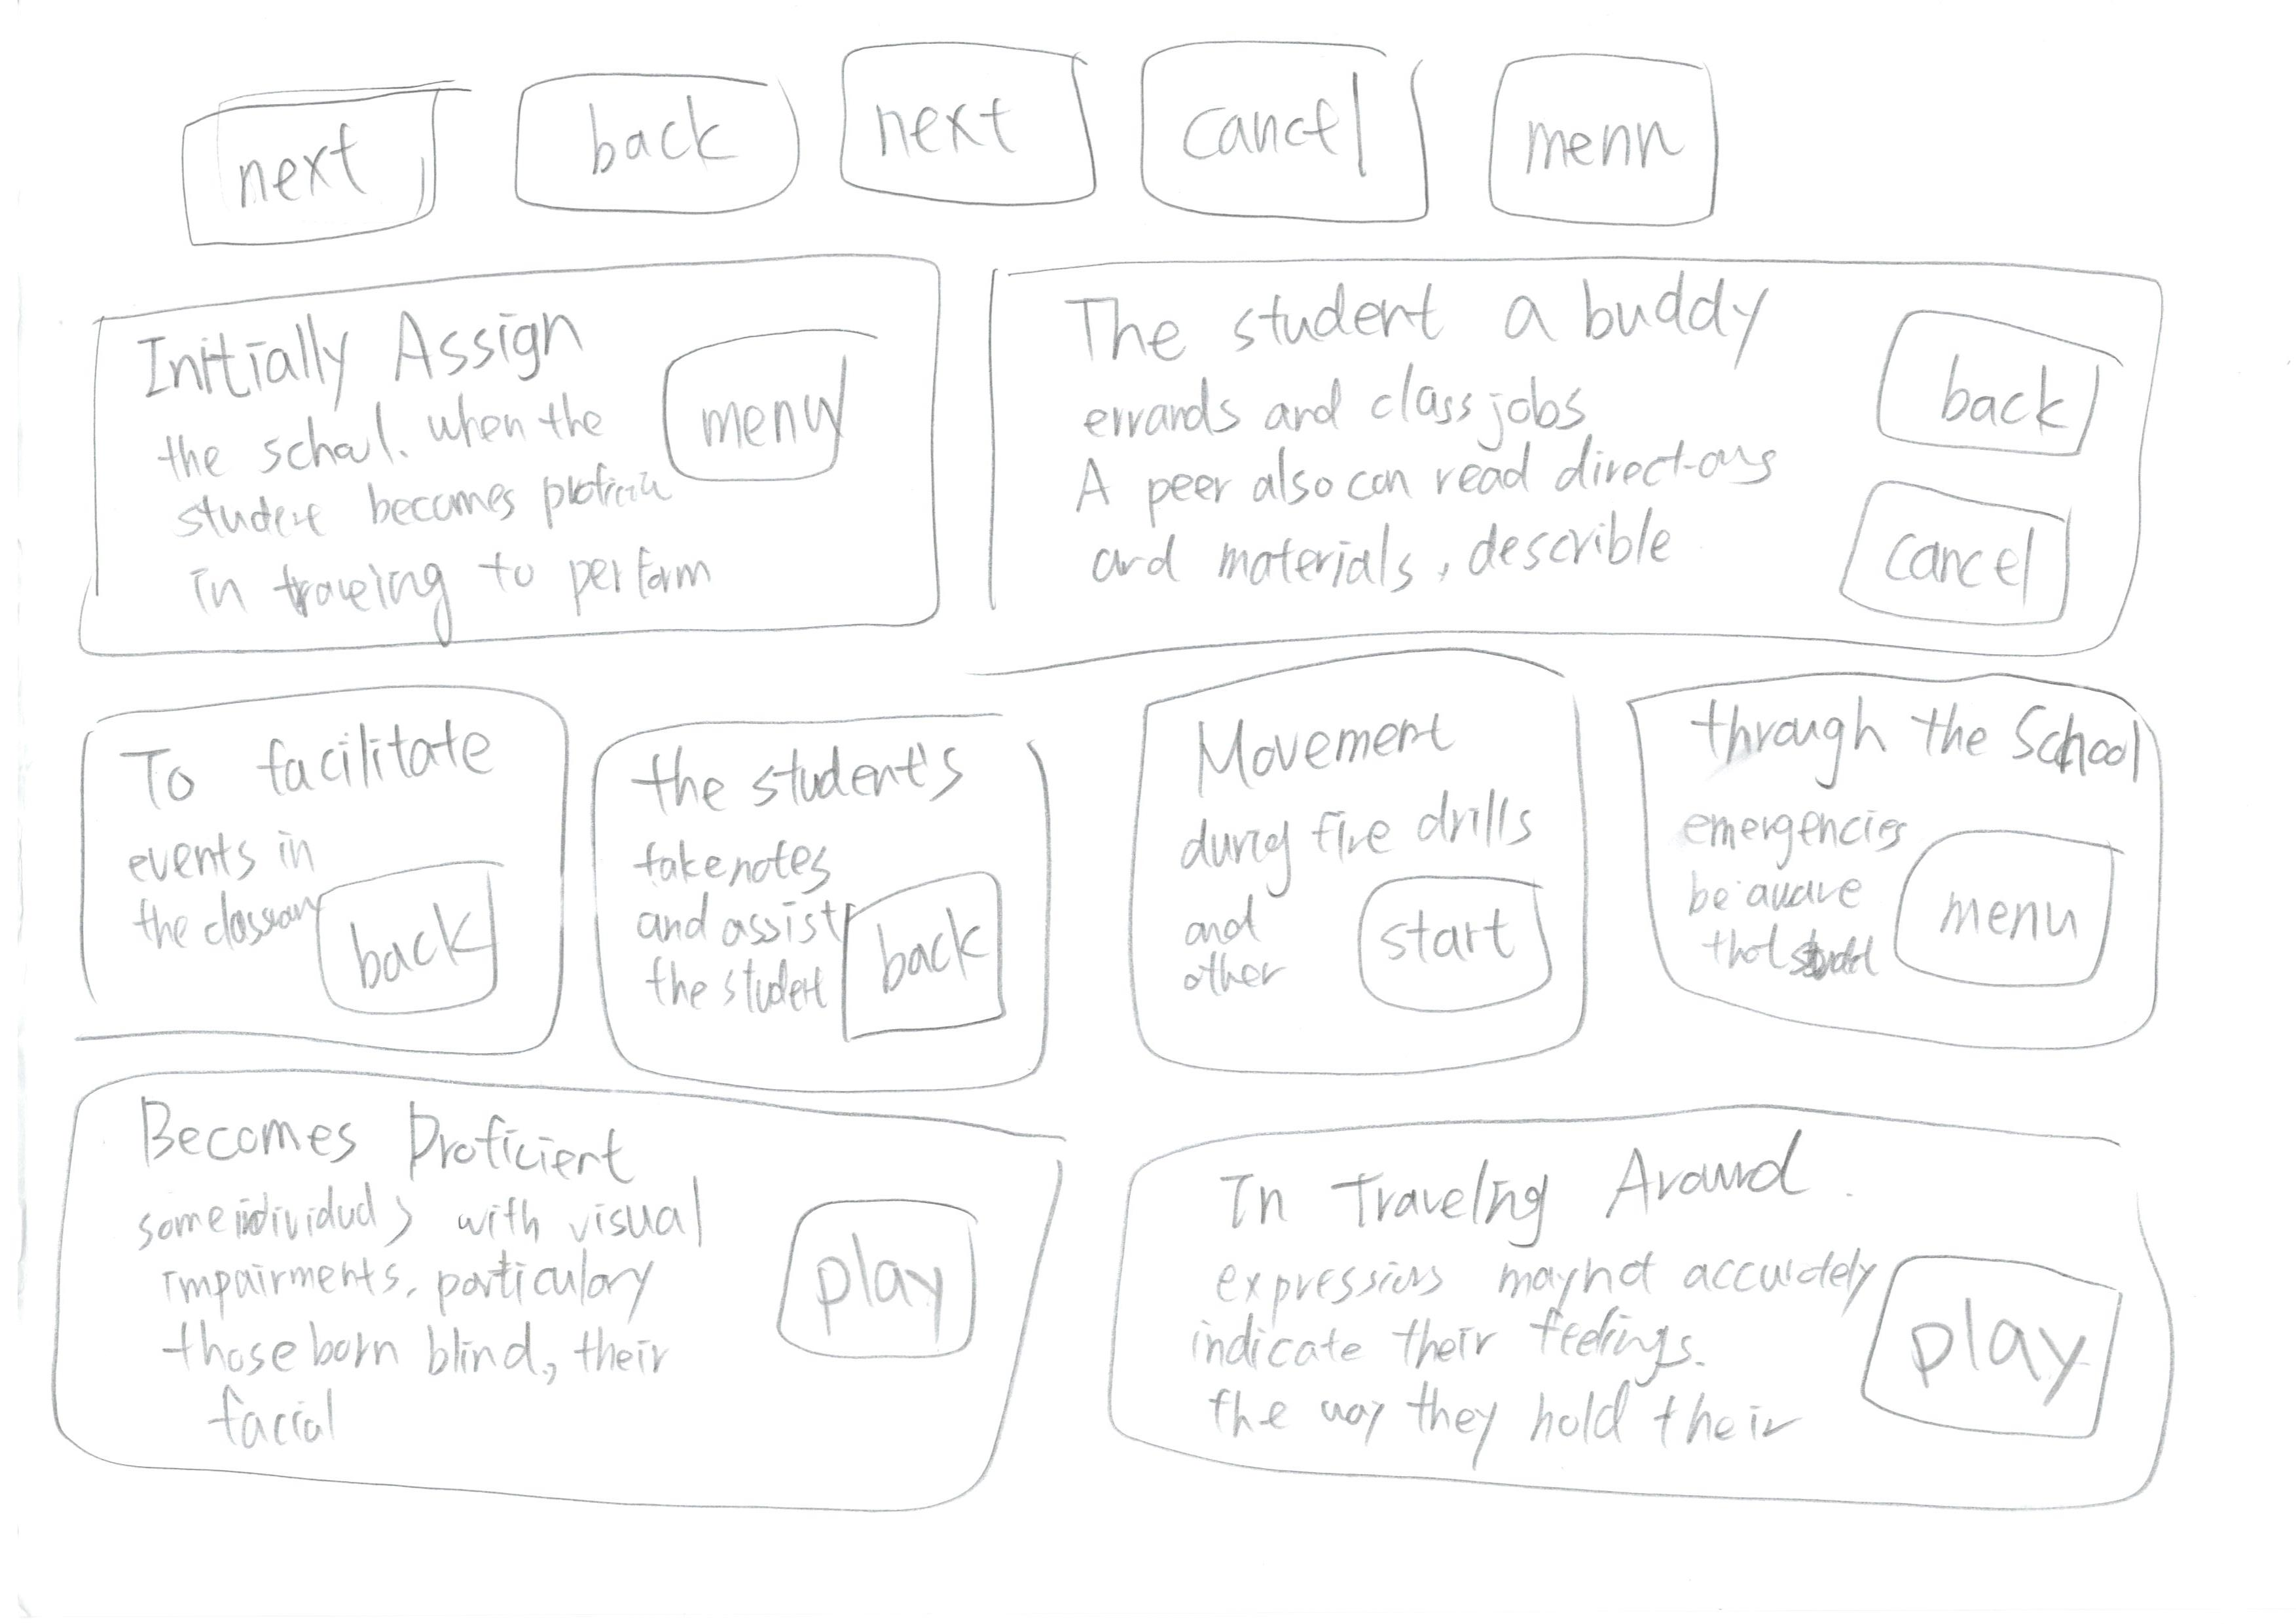back: (466, 23, 833, 234), (1851, 288, 2125, 471), (800, 865, 1021, 1056), (292, 851, 529, 1025)
cancel: (1125, 12, 1449, 246)
double: (1088, 1056, 2245, 1547), (967, 236, 2257, 659), (25, 1056, 1094, 1545), (46, 241, 972, 668)
menu: (633, 302, 898, 508)
next: (134, 21, 483, 260), (816, 7, 1108, 241)
play: (1860, 1232, 2140, 1475), (759, 1179, 995, 1394)
quadruple: (1605, 640, 2215, 1100), (1076, 640, 1630, 1093), (51, 652, 585, 1081), (554, 664, 1088, 1093)
row: (26, 1028, 2296, 1587), (26, 228, 2296, 682), (14, 645, 2284, 1098), (26, 0, 2296, 283)
small-title: (1041, 264, 1777, 369), (1180, 1137, 1869, 1232), (1672, 692, 2145, 808), (141, 295, 550, 406), (128, 1098, 645, 1185), (610, 721, 990, 828), (105, 721, 534, 803), (1202, 749, 1510, 835)
start: (1340, 859, 1579, 1032)
text: (1065, 374, 1814, 594), (118, 1179, 707, 1441), (1171, 1234, 1853, 1457), (144, 402, 698, 626), (1454, 46, 1767, 251), (1871, 800, 2154, 1009), (100, 821, 380, 1018), (1665, 796, 1900, 993), (605, 840, 846, 1023), (1167, 782, 1565, 858), (1190, 816, 1345, 1007)
